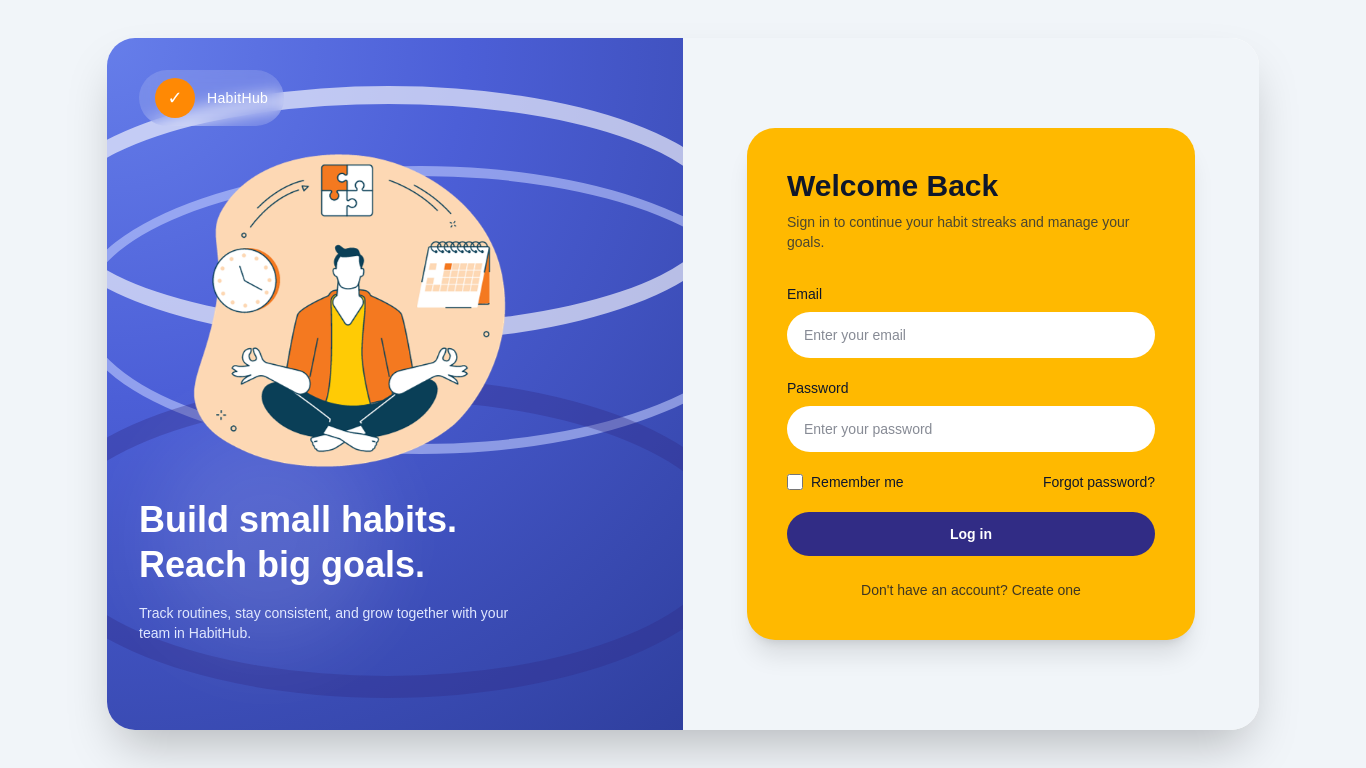
Test case: HabitHubLoginPage › shows error when login fails
Type "wrong@example.com" into the field labelled "Email". click: (971, 335)
box: [787,312,1155,358]
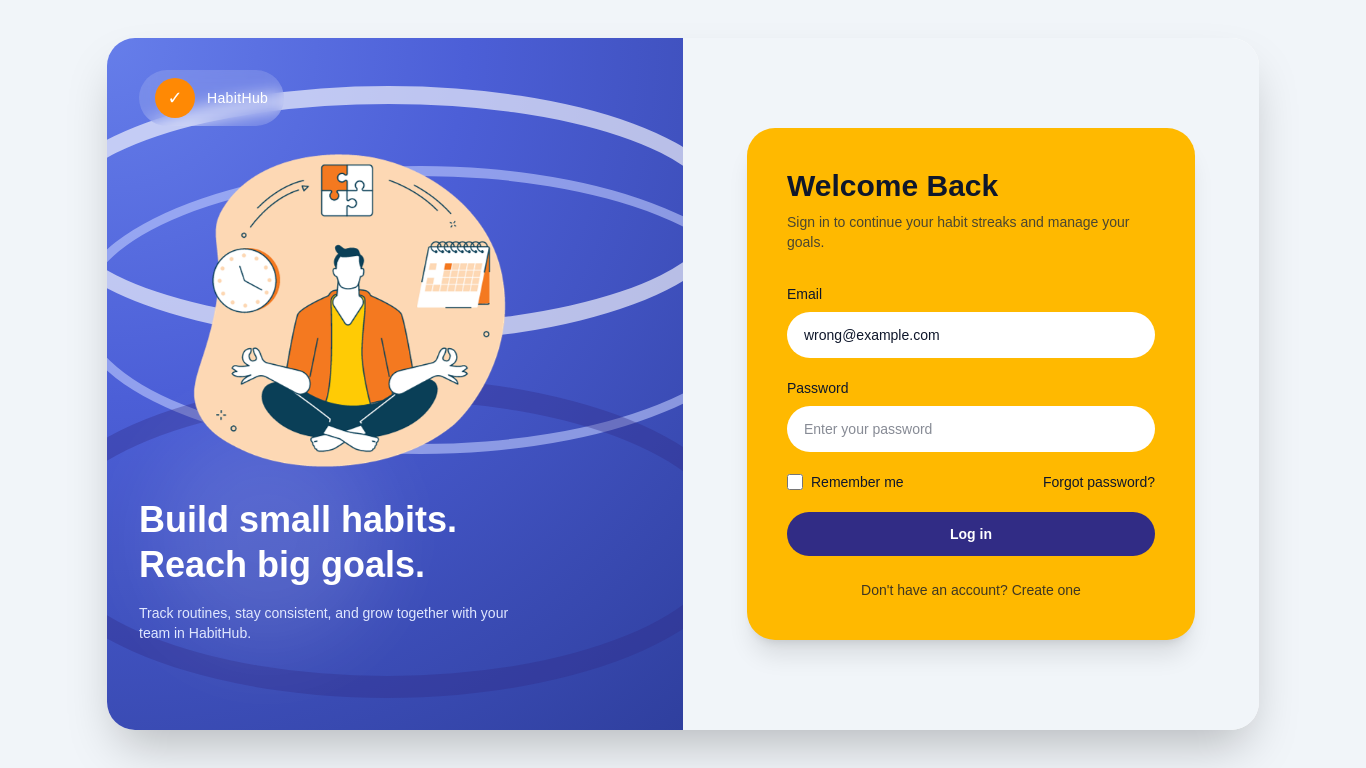
Type "wrongpass" into the password field labelled "Password". click: (971, 429)
box: [787,406,1155,452]
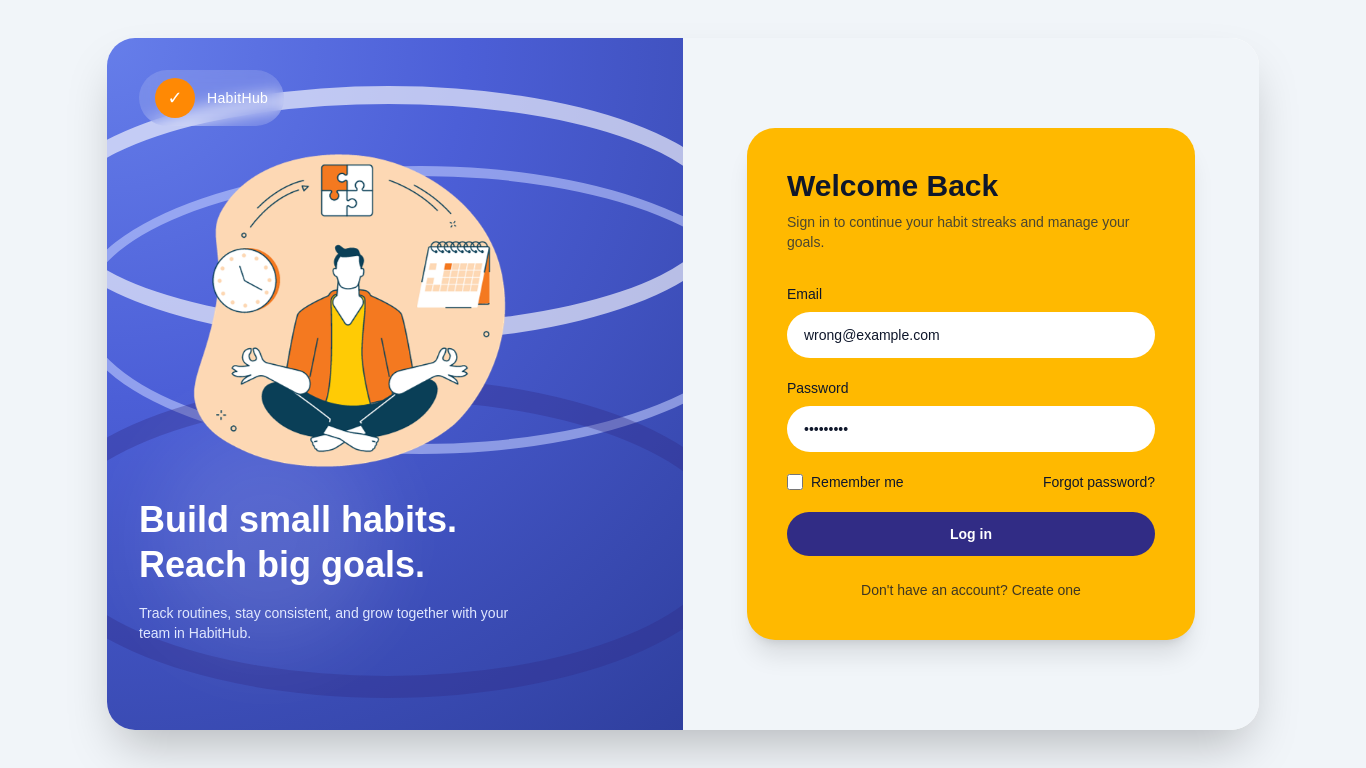
Click the button "Log in". click: (971, 534)
box: [787,512,1155,556]
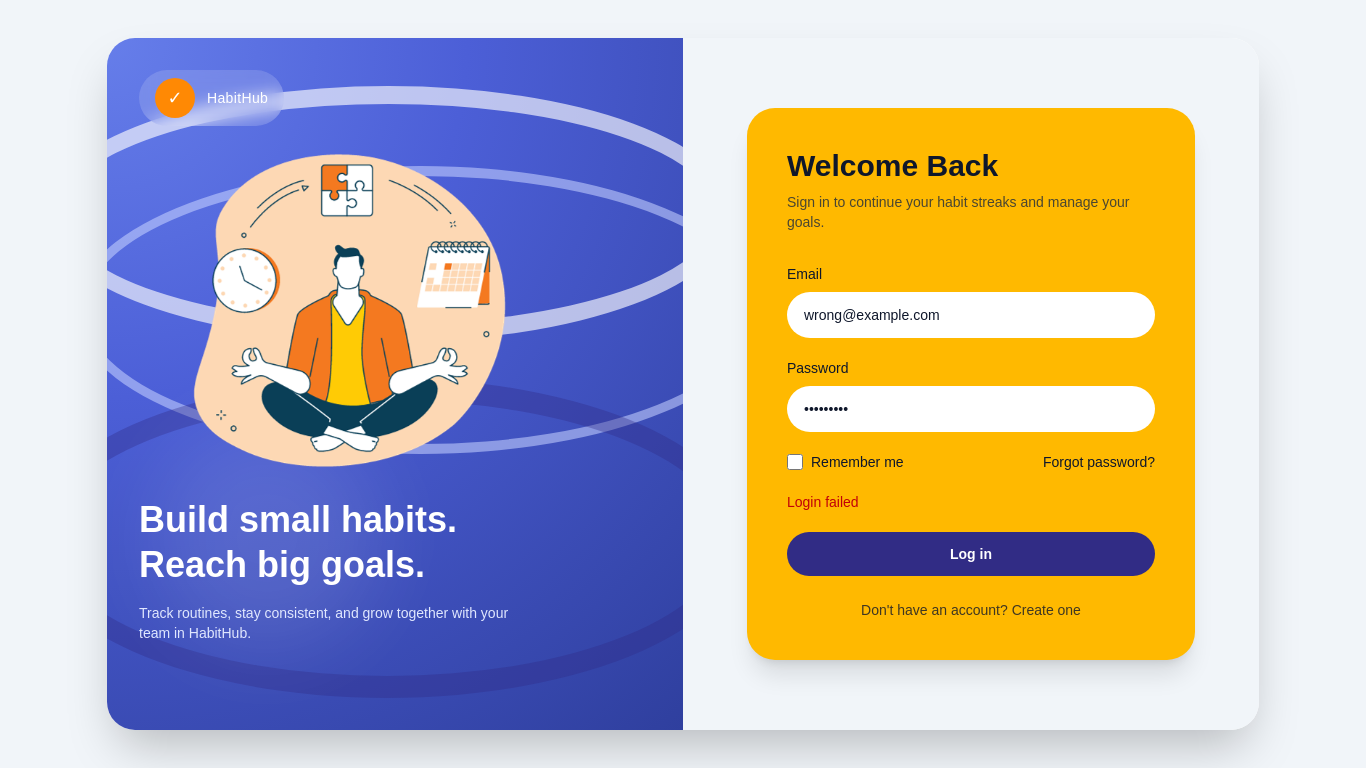
Result: the text "Login failed" is shown at [787,494,859,510]
